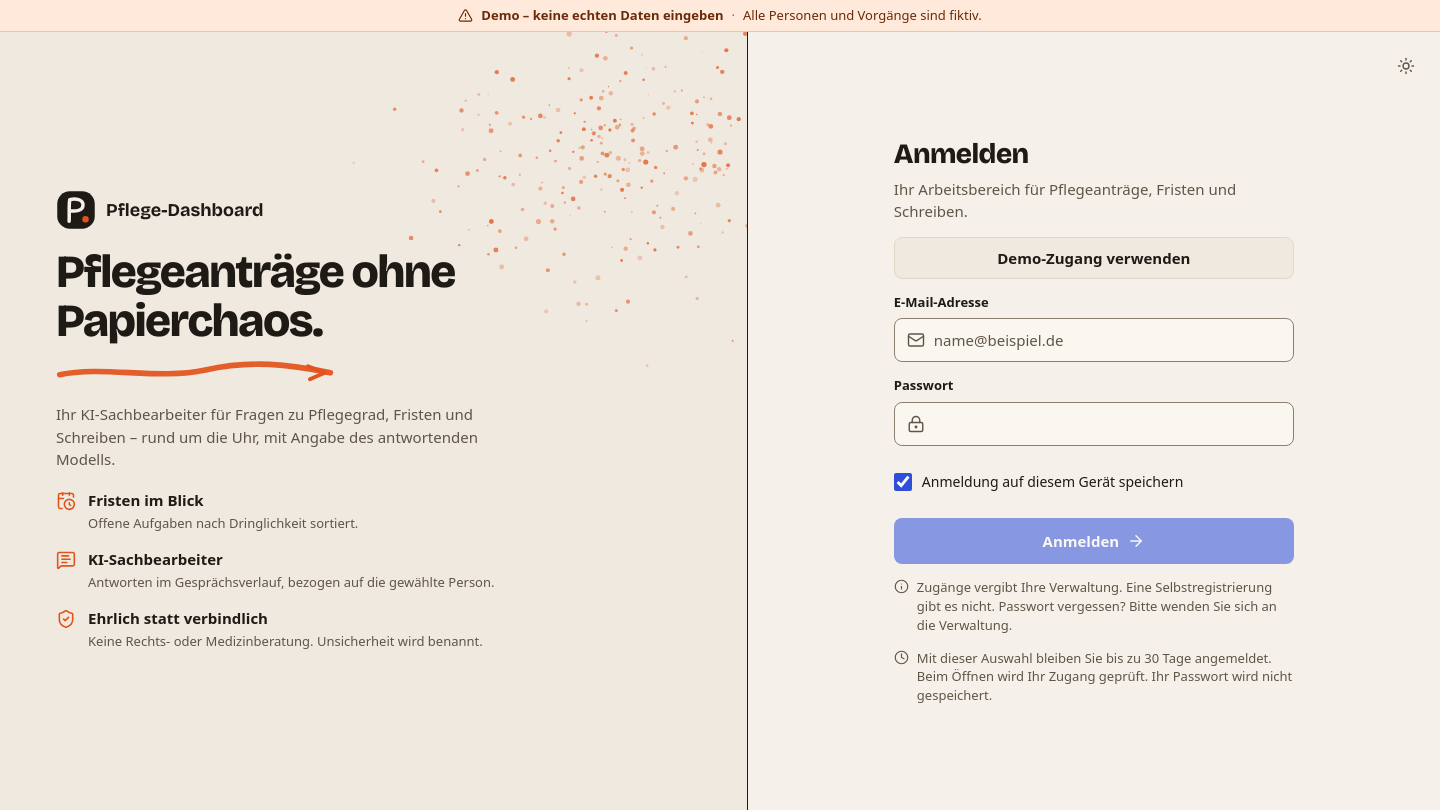
it: Sachbearbeiter-Test: angemeldete Arbeitsansicht › leerer Workspace und Abmelden entfernen private Fallansicht
The image size is (1440, 810).
Type "pruefung@beispiel.invalid" into the field labelled "E-Mail-Adresse" at (1107, 340), box [934,320,1281,362]
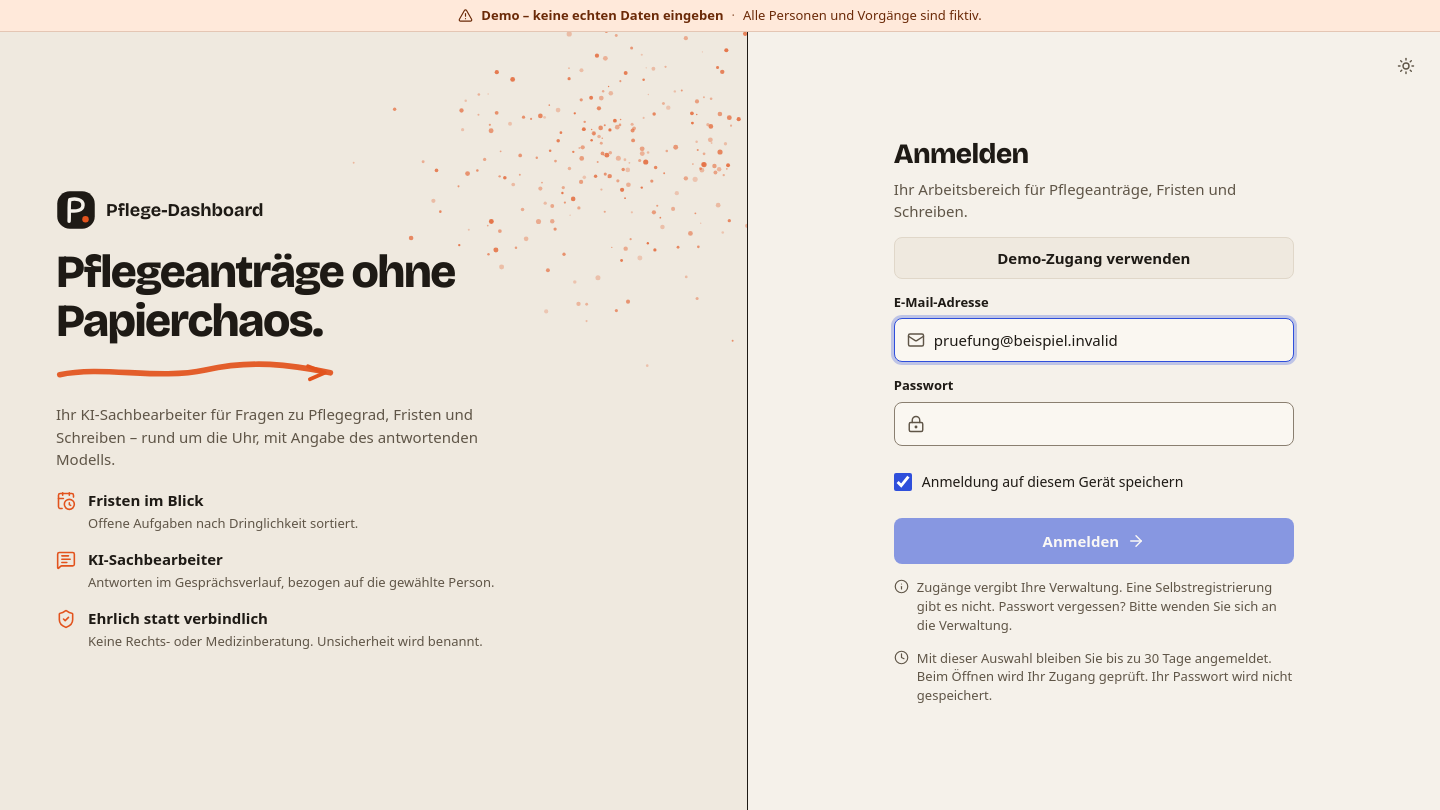
Type "nur-synthetisch" into the password field labelled "Passwort" at (1107, 424), box [934,403,1281,445]
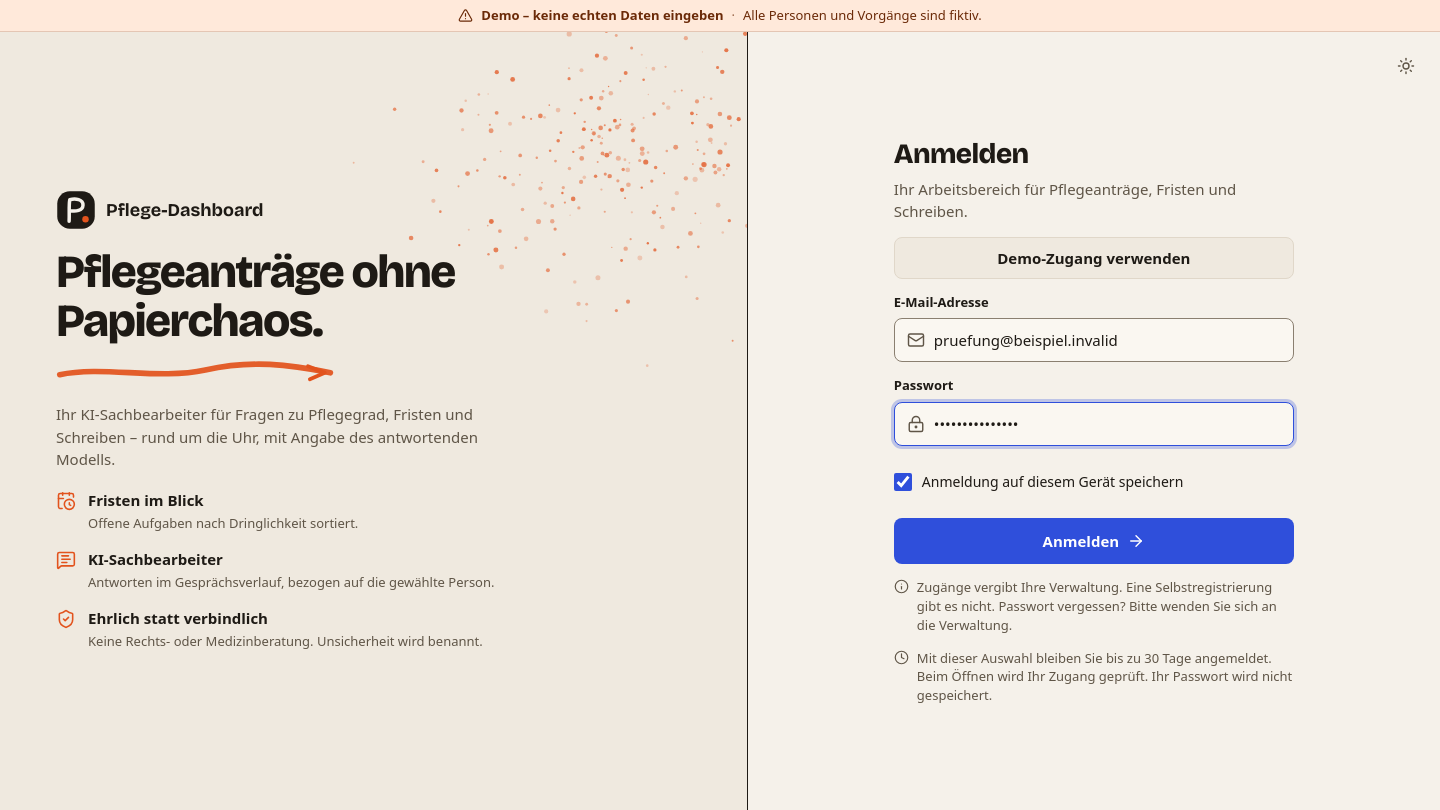
Click the checkbox labelled "Anmeldung auf diesem Gerät speichern" at (903, 482), box [894,473,912,491]
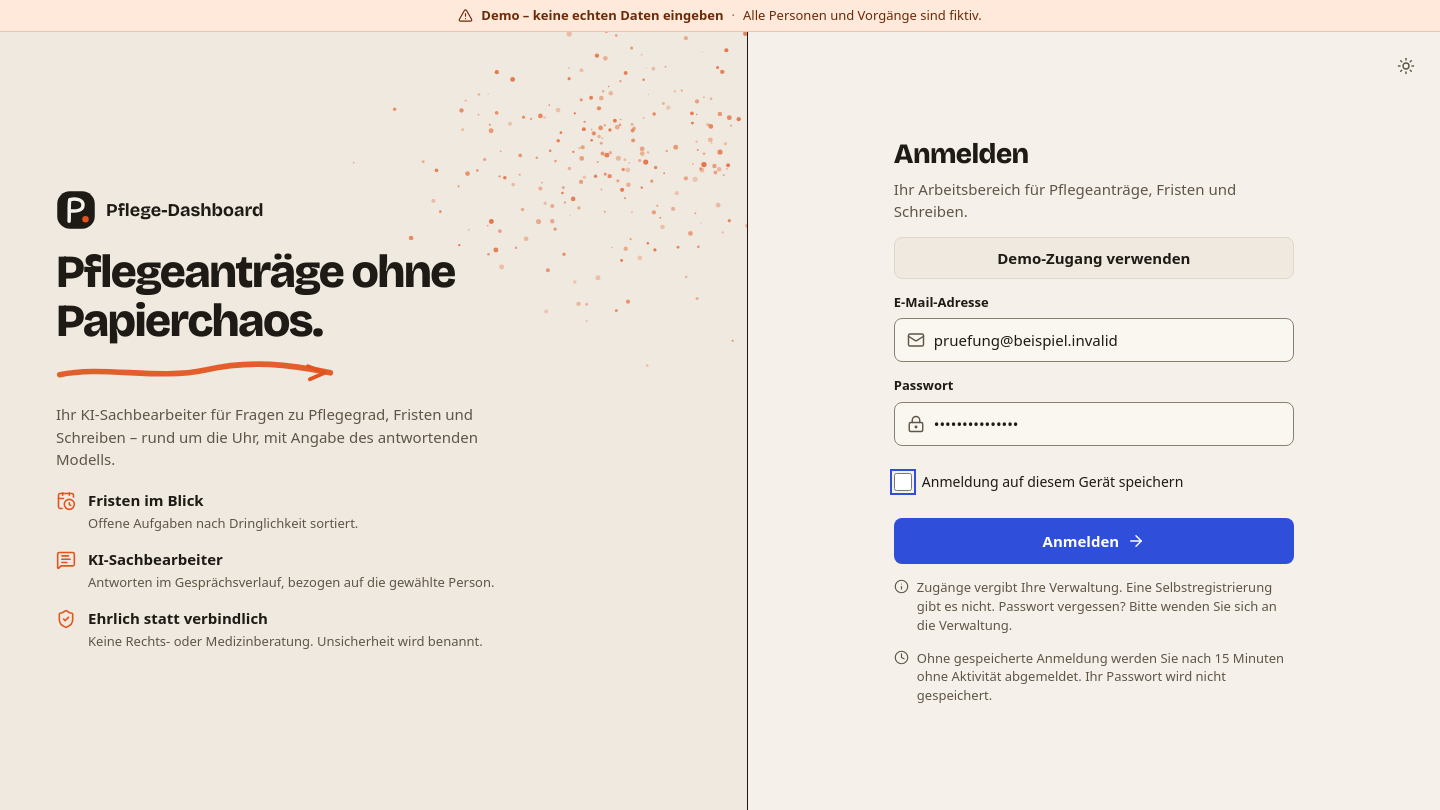
Click the button "Anmelden" at (1094, 541), box [894,518,1294,564]
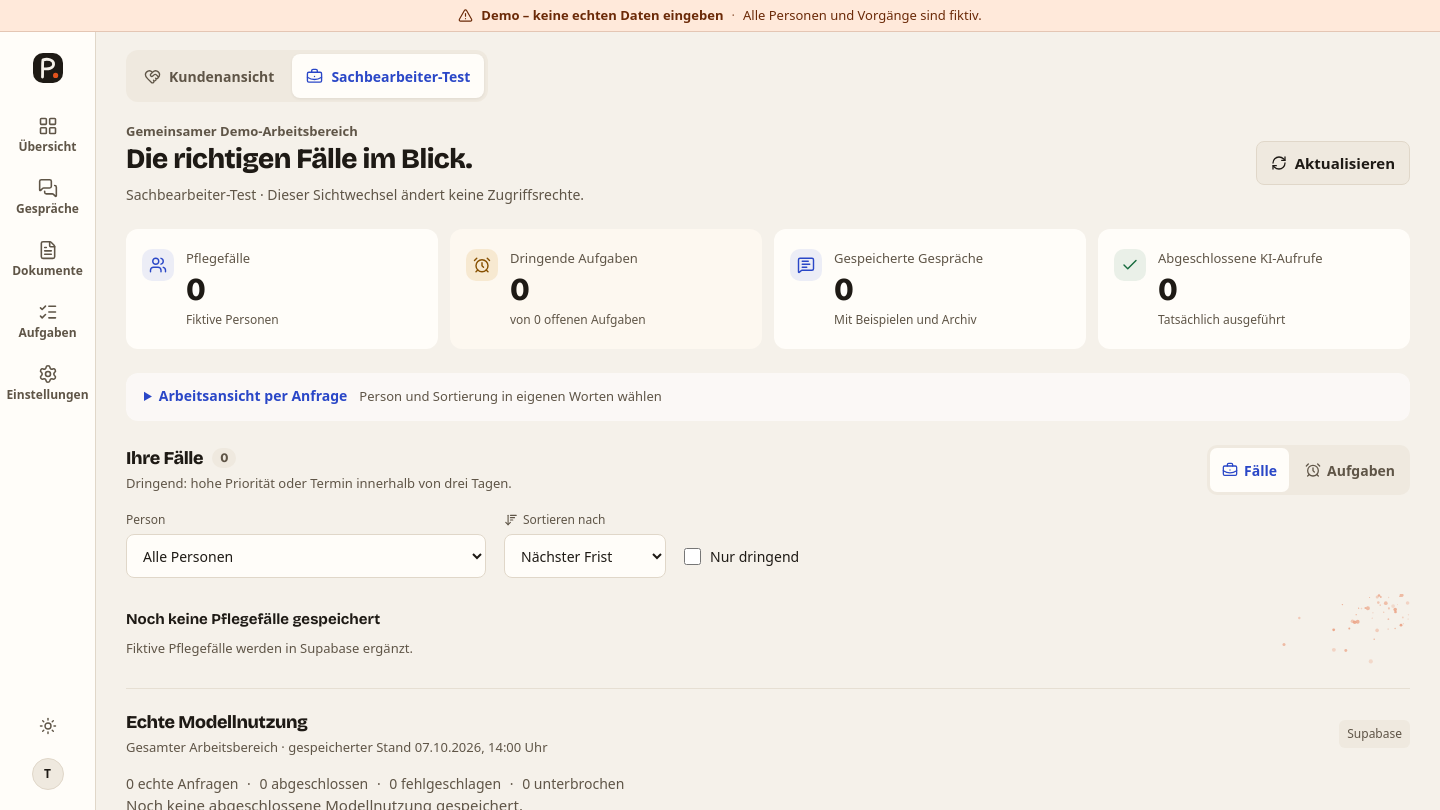
Now the text "Noch keine Pflegefälle gespeichert" is shown, box [126,608,380,631]
Click the button named "Konto:" at (48, 774), box [26,752,70,796]
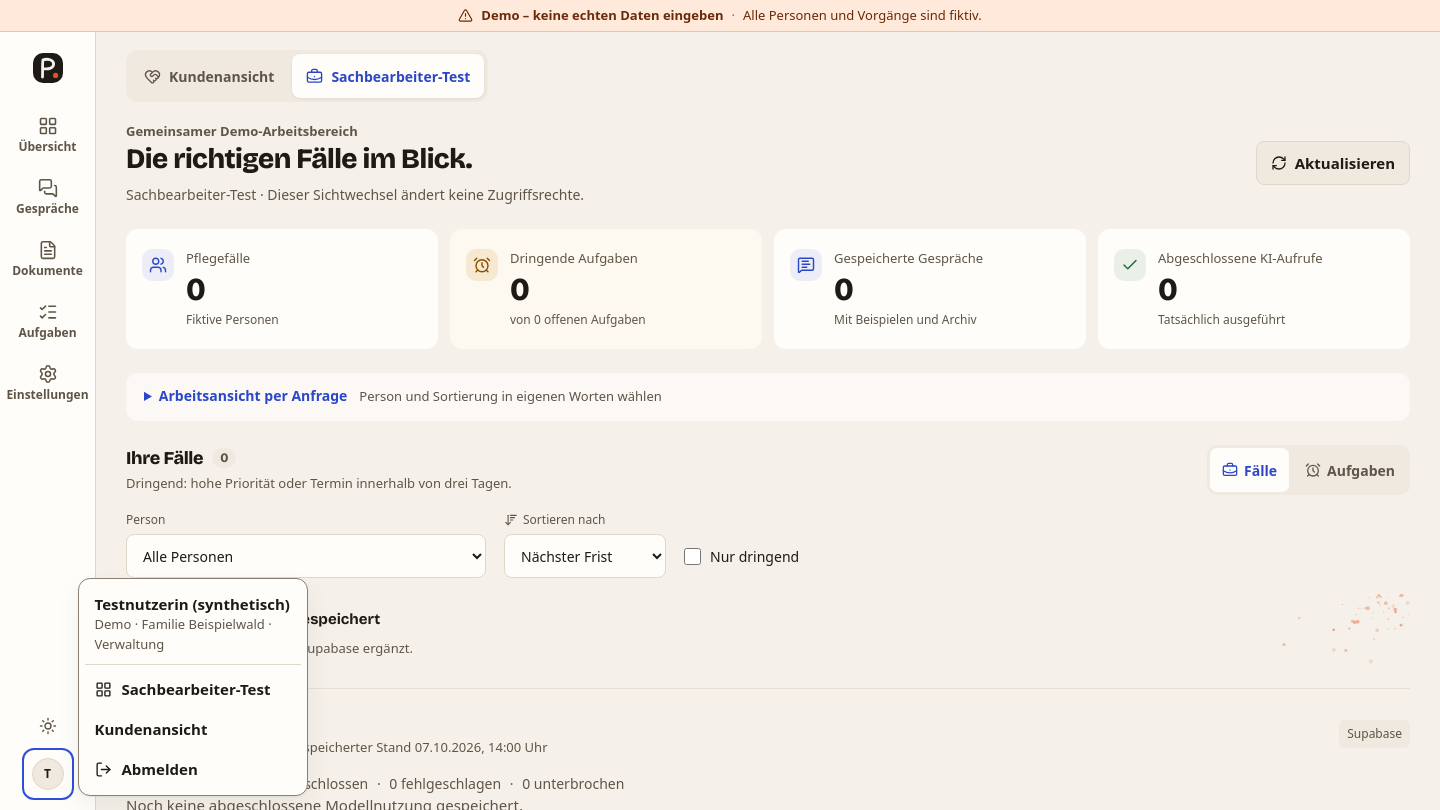
Click the menu item "Abmelden" at (192, 769), box [84,749,300,789]
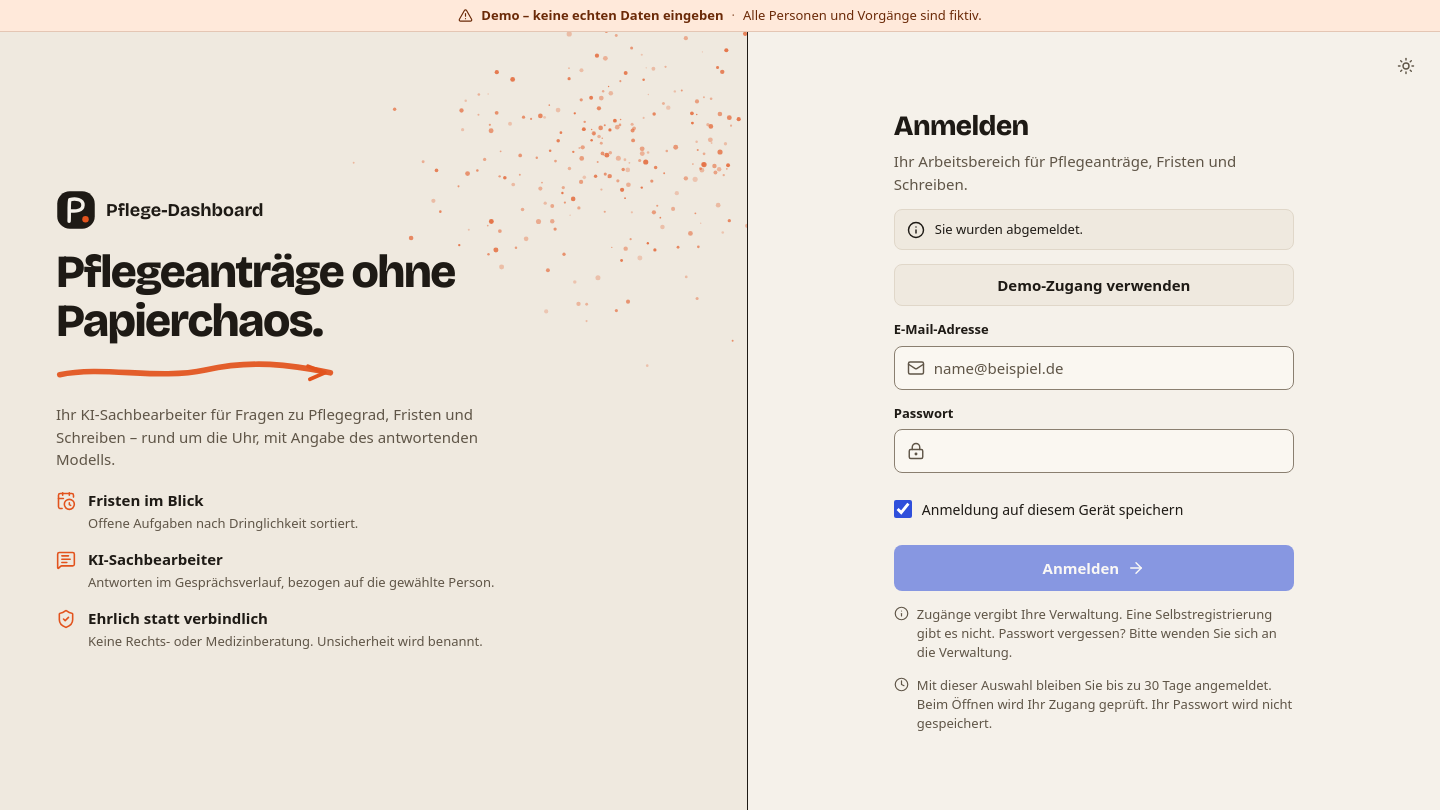
Now the button "Anmelden" is shown, box [894,546,1294,592]
Now the heading "Die richtigen Fälle im Blick." is gone
